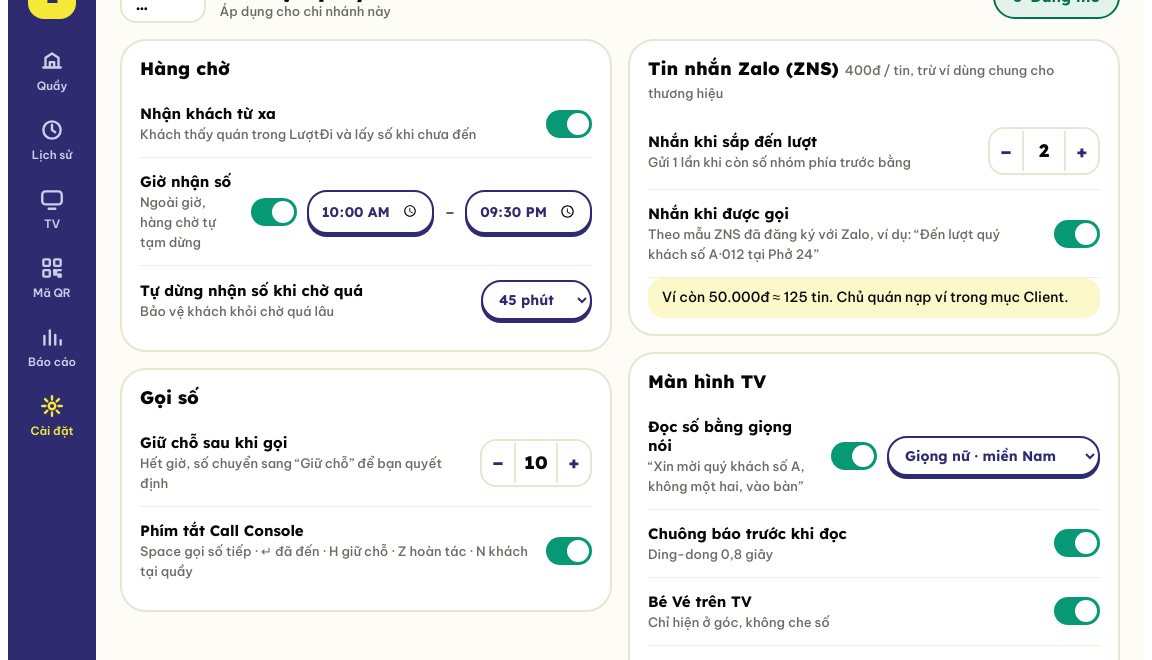
Test case: SettingsPage › stepper change shows the save bar and PATCHes only the diff
Click the button "+" in the row of "Giữ chỗ sau khi gọi" at (574, 462), box [558, 440, 590, 484]
(page scrolled)
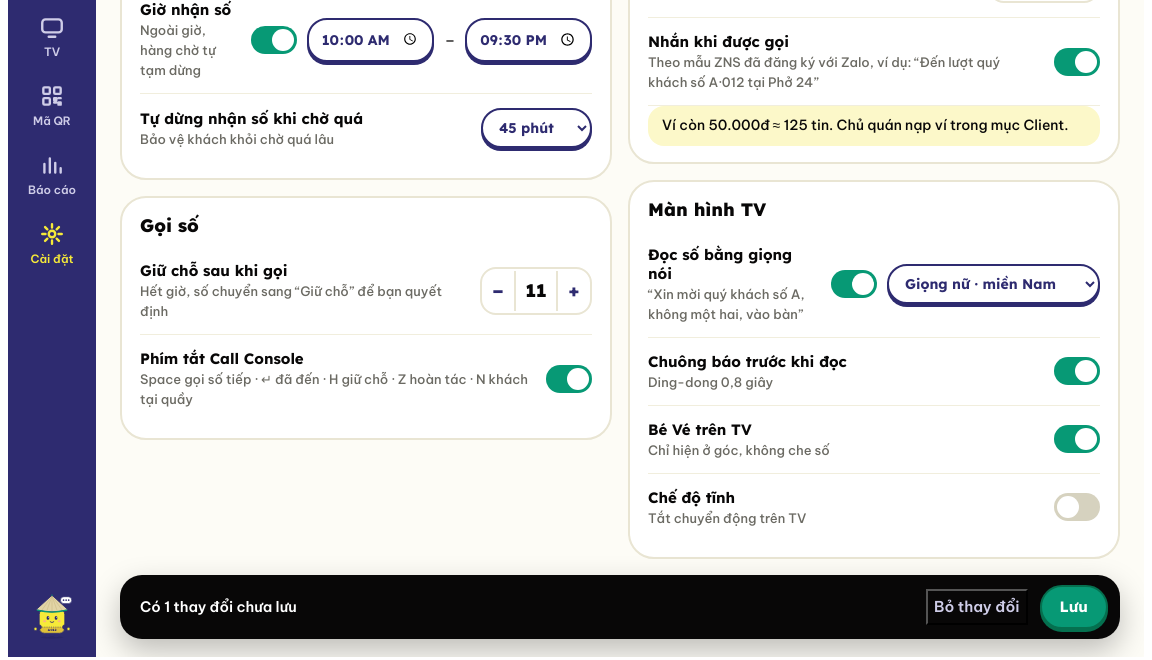
Click the button "Lưu" at (1074, 607), box [1040, 585, 1108, 629]
(page scrolled)
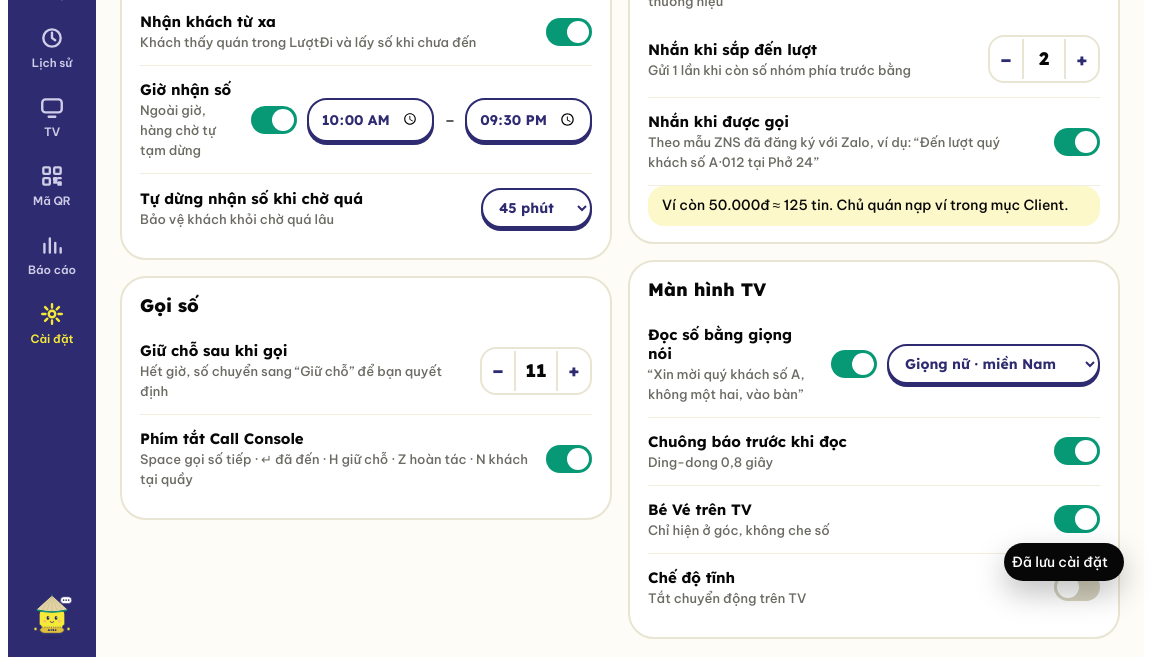
Check: the element with test id "settings-savebar" is gone
